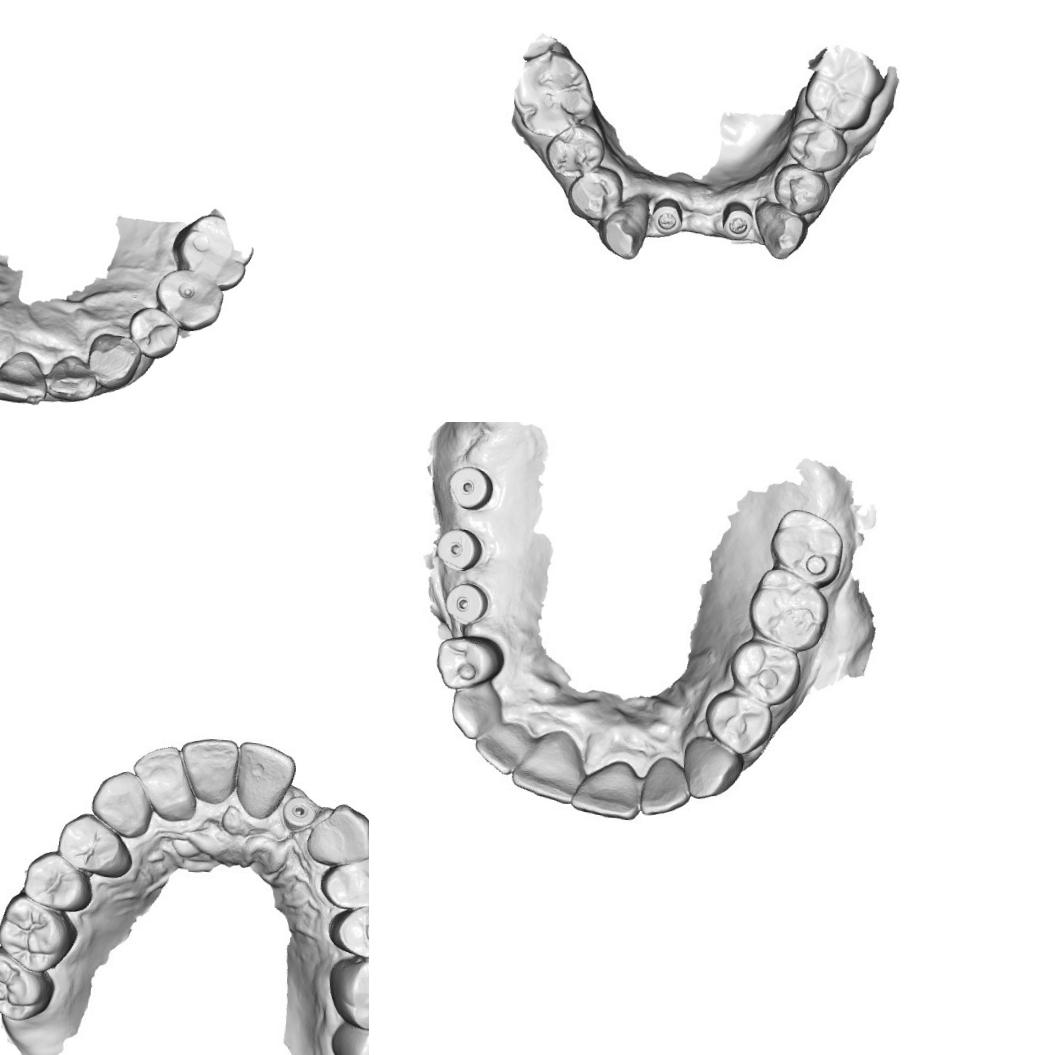canine: (86, 767, 156, 839), (681, 735, 740, 801), (84, 330, 144, 392), (310, 802, 369, 863), (754, 201, 810, 265), (600, 194, 651, 264), (449, 682, 505, 738)
implant: (444, 459, 498, 517), (437, 578, 493, 632), (433, 526, 487, 576), (282, 792, 314, 832), (652, 198, 681, 240), (724, 202, 753, 240)
incisor: (233, 738, 297, 819), (135, 746, 197, 822), (514, 732, 580, 798), (572, 761, 639, 822), (182, 736, 238, 800), (638, 752, 691, 814), (0, 347, 52, 406), (42, 352, 100, 402), (476, 722, 530, 772)
molar: (510, 50, 594, 140), (746, 561, 828, 649), (804, 40, 881, 132), (168, 211, 254, 292), (769, 506, 844, 582), (0, 896, 71, 971), (0, 949, 49, 1018), (343, 954, 369, 1032)
premolar: (151, 266, 228, 332), (704, 686, 772, 754), (56, 814, 131, 871), (733, 638, 799, 702), (786, 115, 854, 174), (544, 121, 607, 182), (25, 852, 89, 909), (436, 632, 498, 688), (124, 303, 182, 362), (773, 164, 836, 217), (564, 167, 618, 222), (323, 855, 369, 904), (333, 902, 369, 959)
